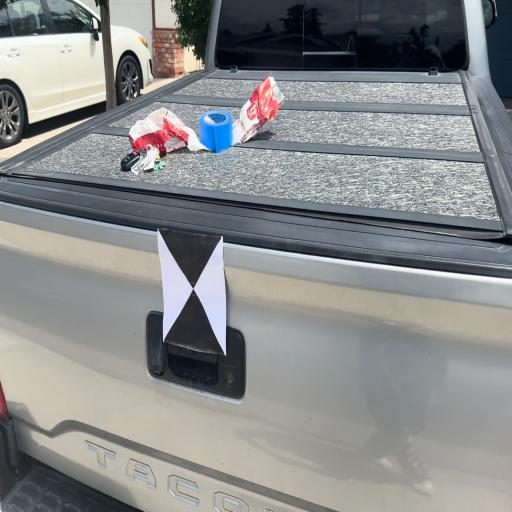target: (158, 227, 226, 356)
